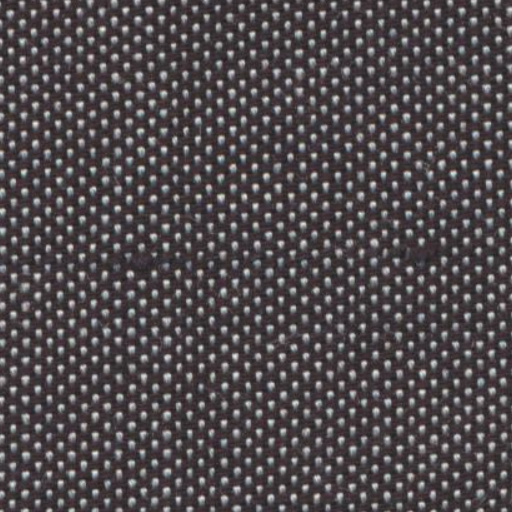TuoSha: (42, 218, 466, 294)
